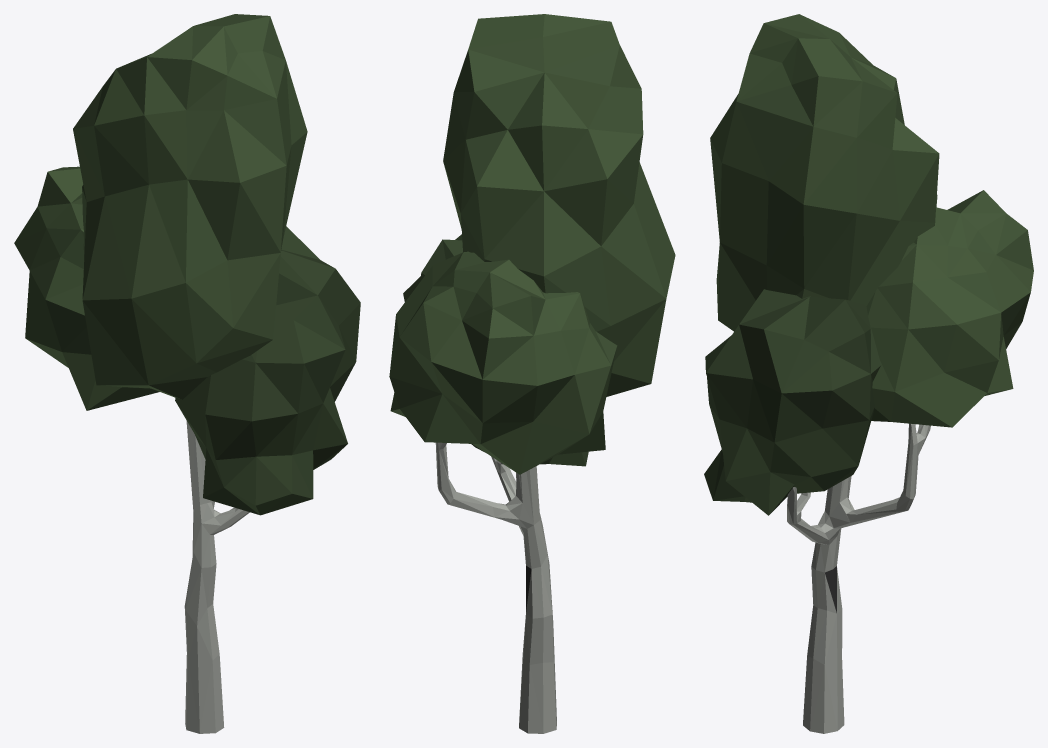
The model's file is BirchTree_3.glb.
The picture shows the model from 3 angles, left to right: view 1: azimuth 30°, elevation 25°; view 2: azimuth 150°, elevation 25°; view 3: azimuth 270°, elevation 25°; orthographic projection. The views are drawn at different scales.
Visible parts, largest first — view 1: BirchTree_3_Cube.065; view 2: BirchTree_3_Cube.065; view 3: BirchTree_3_Cube.065.
Boxes of the visible parts, x1,y1,x2,y2 form: BirchTree_3_Cube.065: (14,14,360,733); BirchTree_3_Cube.065: (389,14,675,733); BirchTree_3_Cube.065: (704,14,1033,733).
Size of the model in its own units: 1.57 by 4.09 by 1.77.
